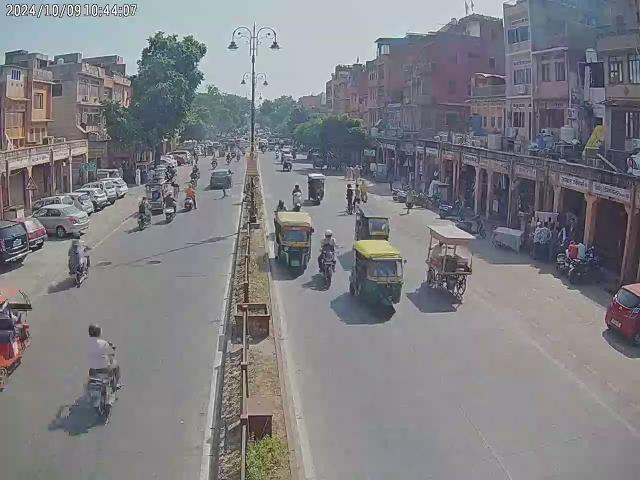auto: (349, 237, 405, 312), (0, 286, 32, 392), (274, 209, 314, 272), (306, 172, 326, 206), (144, 180, 166, 205)
car: (28, 199, 92, 238), (605, 281, 640, 345), (101, 178, 127, 200), (208, 168, 232, 190)
helmet: (88, 322, 104, 336), (324, 229, 333, 240)
motorbike: (564, 256, 604, 284)
motorbike-rider: (82, 322, 124, 426), (66, 234, 92, 288), (318, 228, 338, 289), (136, 198, 152, 228)
scooty: (455, 214, 488, 238), (438, 198, 464, 220)
scooty-rider: (163, 191, 176, 222), (184, 183, 197, 212), (292, 182, 304, 212)
vendor: (426, 223, 473, 298)
